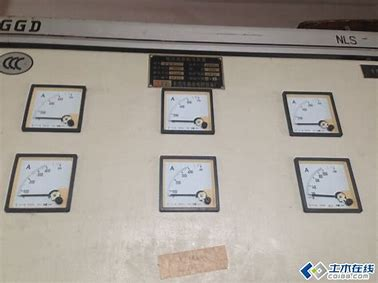pointer: (5, 154, 75, 209), (296, 158, 358, 208), (22, 82, 84, 131), (161, 157, 218, 209), (283, 92, 339, 133), (161, 89, 213, 133)
